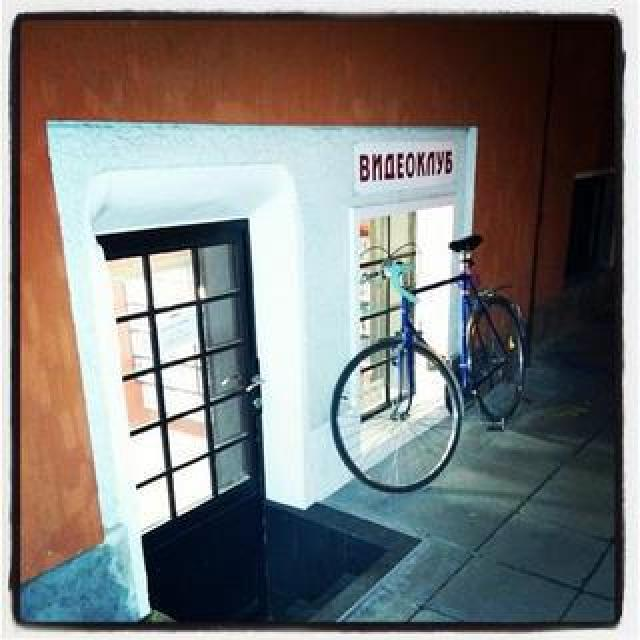Person: (330, 230, 526, 492)
